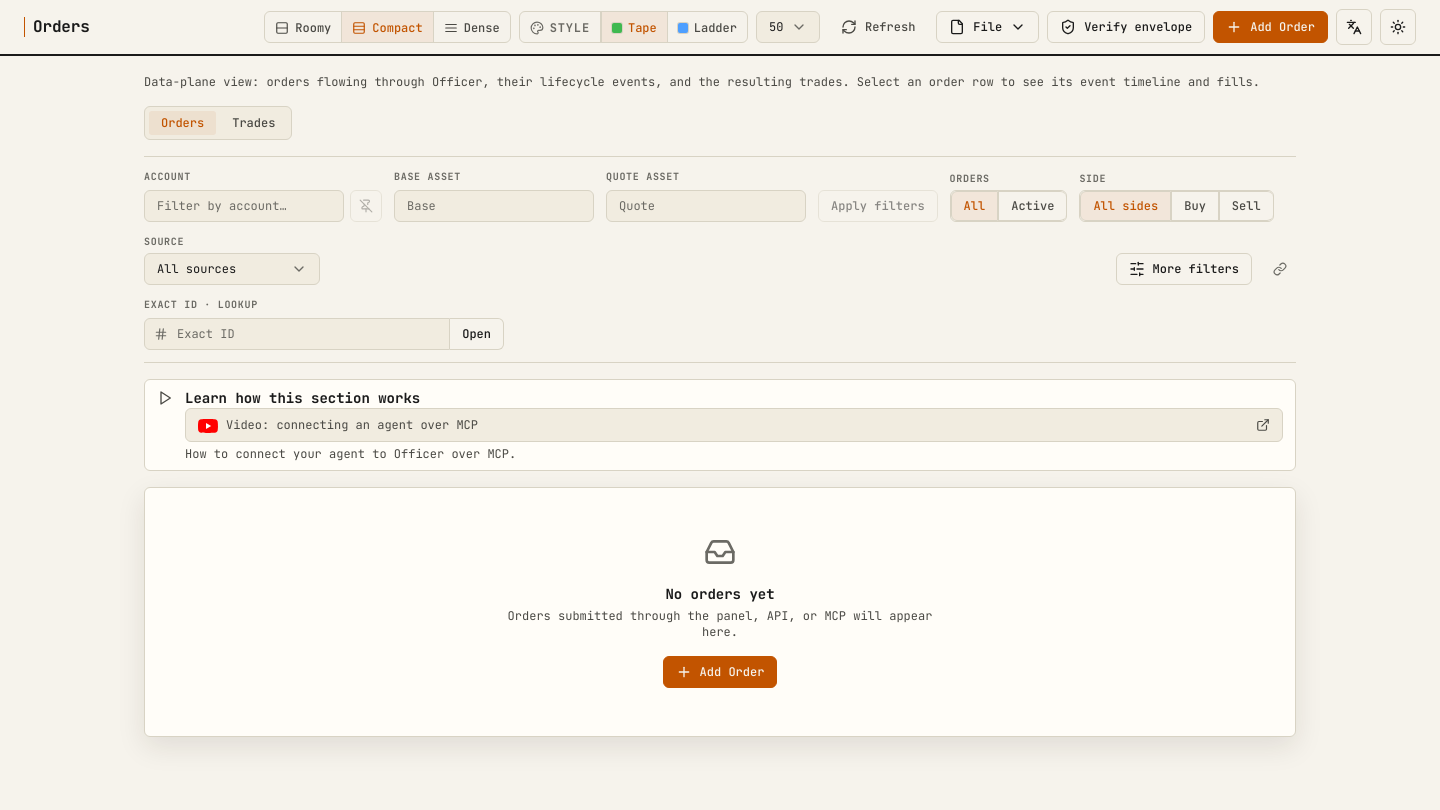
Orders account pre-fill › applies advanced order filters only after apply
Click the button "More filters".
click(1184, 269)  # box x1=1116 y1=253 x2=1252 y2=285
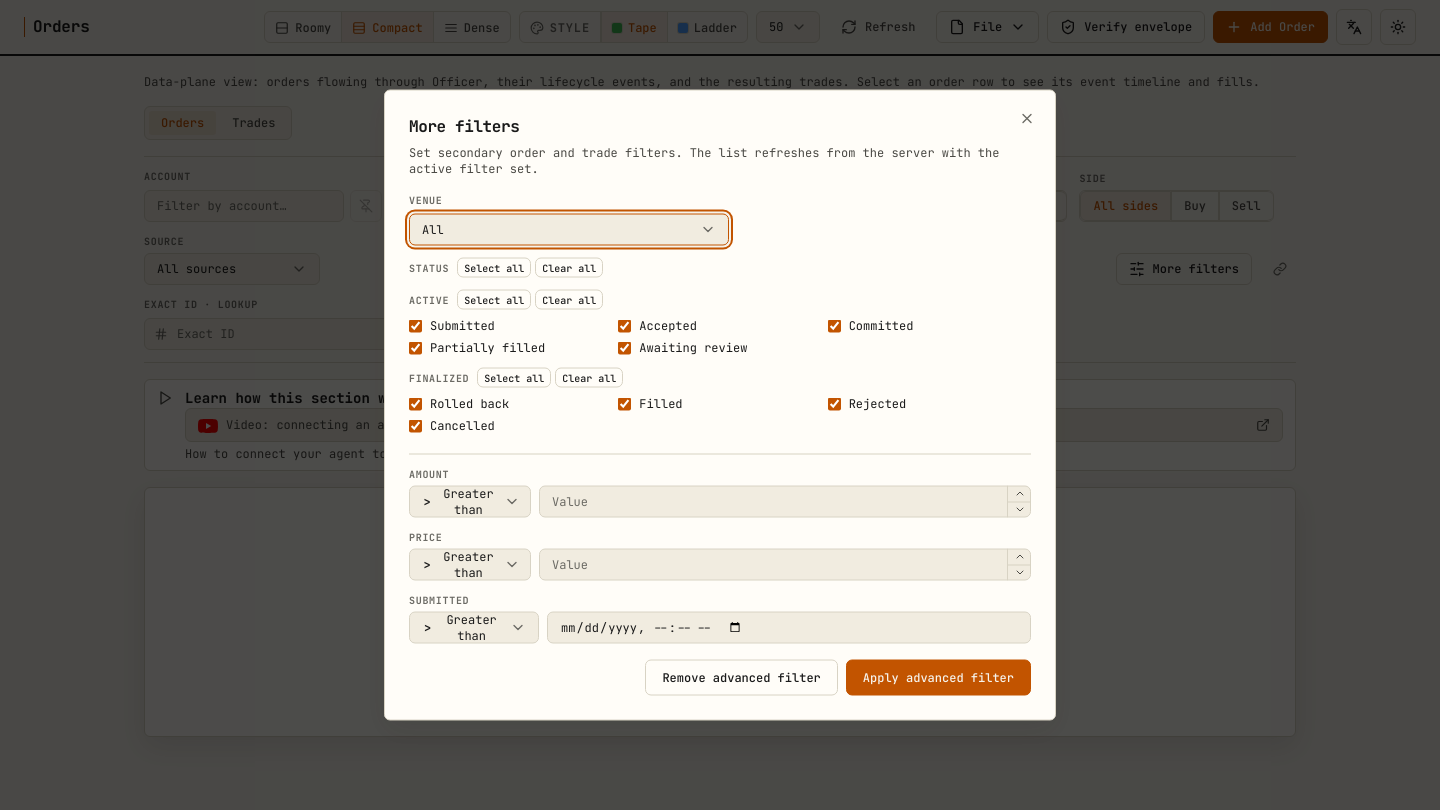
Type "100" into the field with placeholder "Value" below "Amount".
click(785, 502); type("100")  # box x1=539 y1=486 x2=1031 y2=518
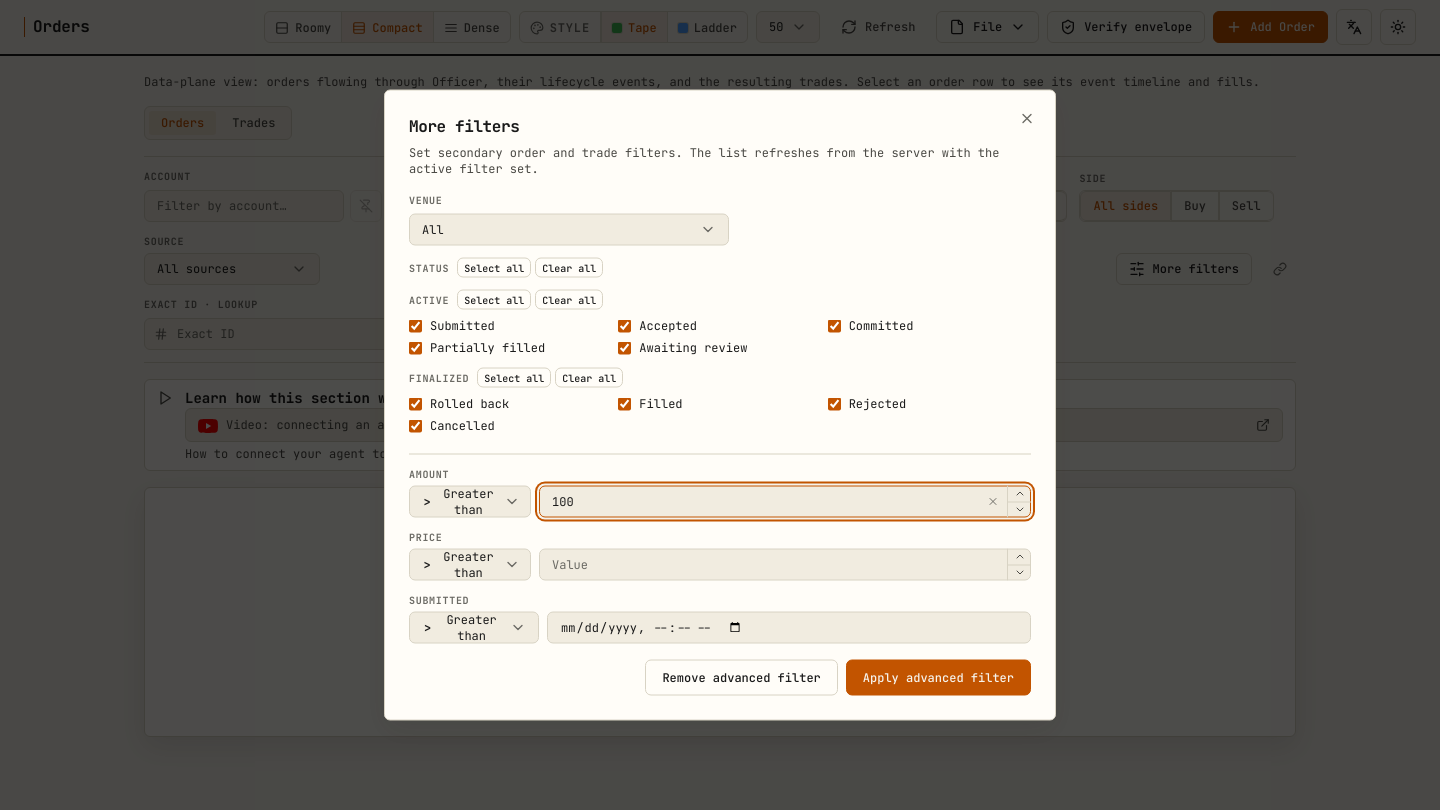
expect the text "active filters" is not shown: met
Click the button "Apply advanced filter".
click(938, 678)  # box x1=846 y1=660 x2=1031 y2=696
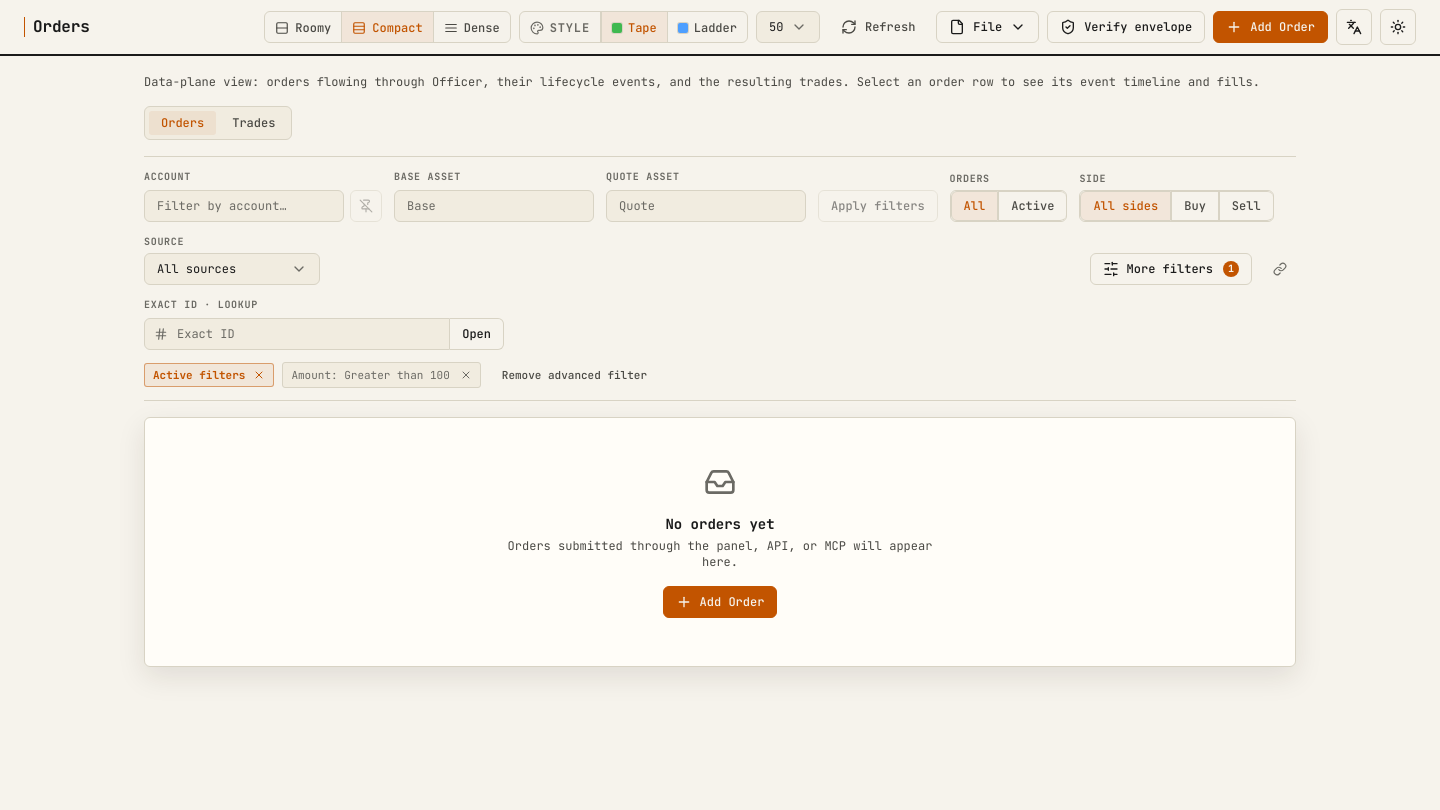
expect the text "Active filters" is shown: met, box x1=144 y1=363 x2=274 y2=387
expect the text "Amount: Greater than 100" is shown: met, box x1=291 y1=367 x2=450 y2=383
